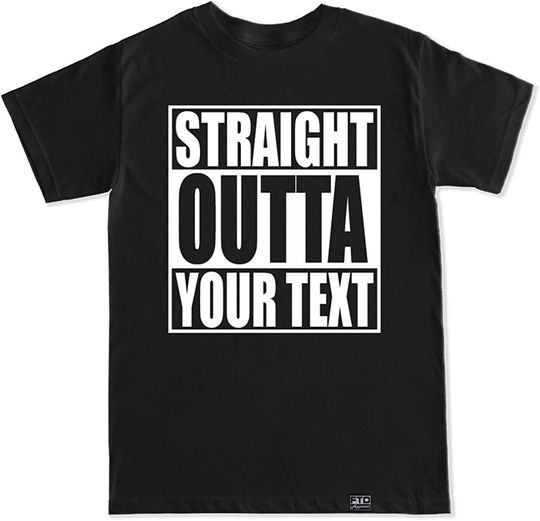design: (165, 101, 385, 336)
